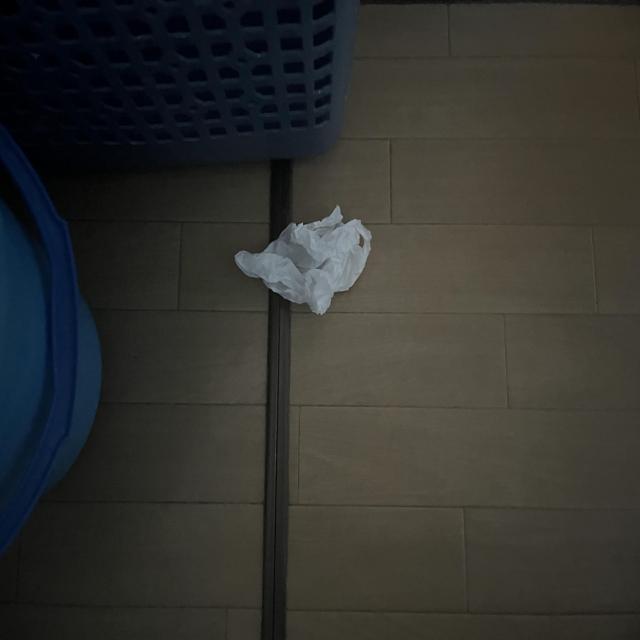Paper: (233, 196, 376, 308)
